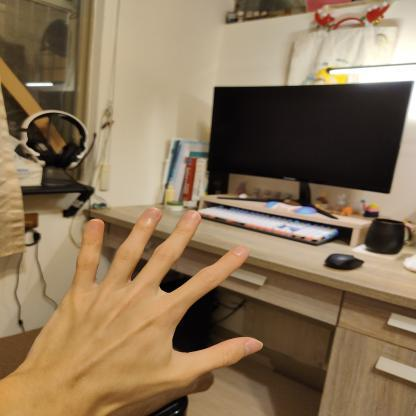bare_hand: (17, 202, 266, 416)
